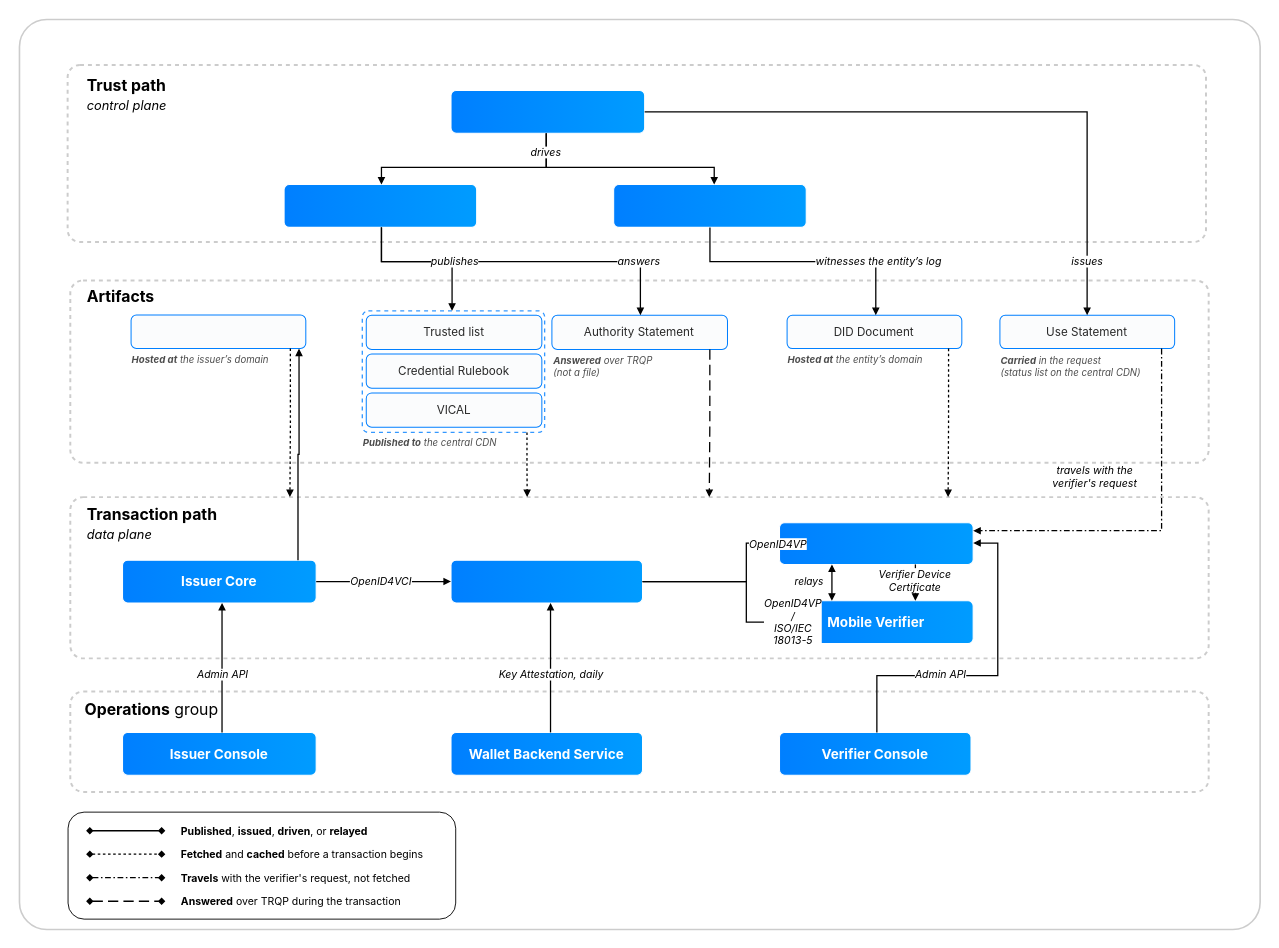
Some shapes in this 1279 by 948 pixel diagram are drawn without their labels. The shapes that lost their labels are listed below. From the top down, each one's centre as x and y in pixels, then its label:
At (x=547, y=111): "Trust Authority".
At (x=380, y=205): "Trust Registry".
At (x=709, y=205): "DID Service".
At (x=218, y=331): "Status list".
At (x=875, y=543): "Verifier Core".
At (x=546, y=581): "Mobile Wallet".
